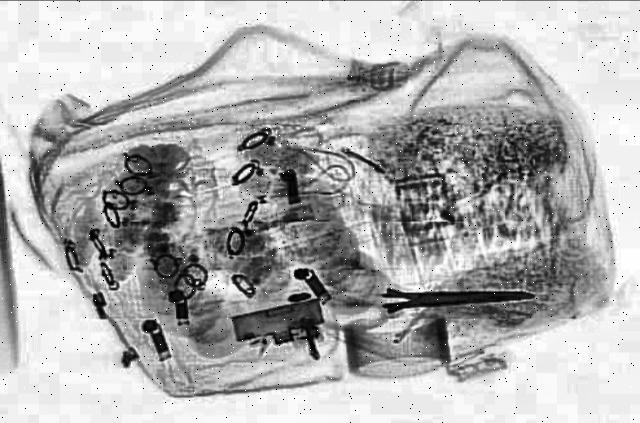Knife: (384, 282, 536, 310)
